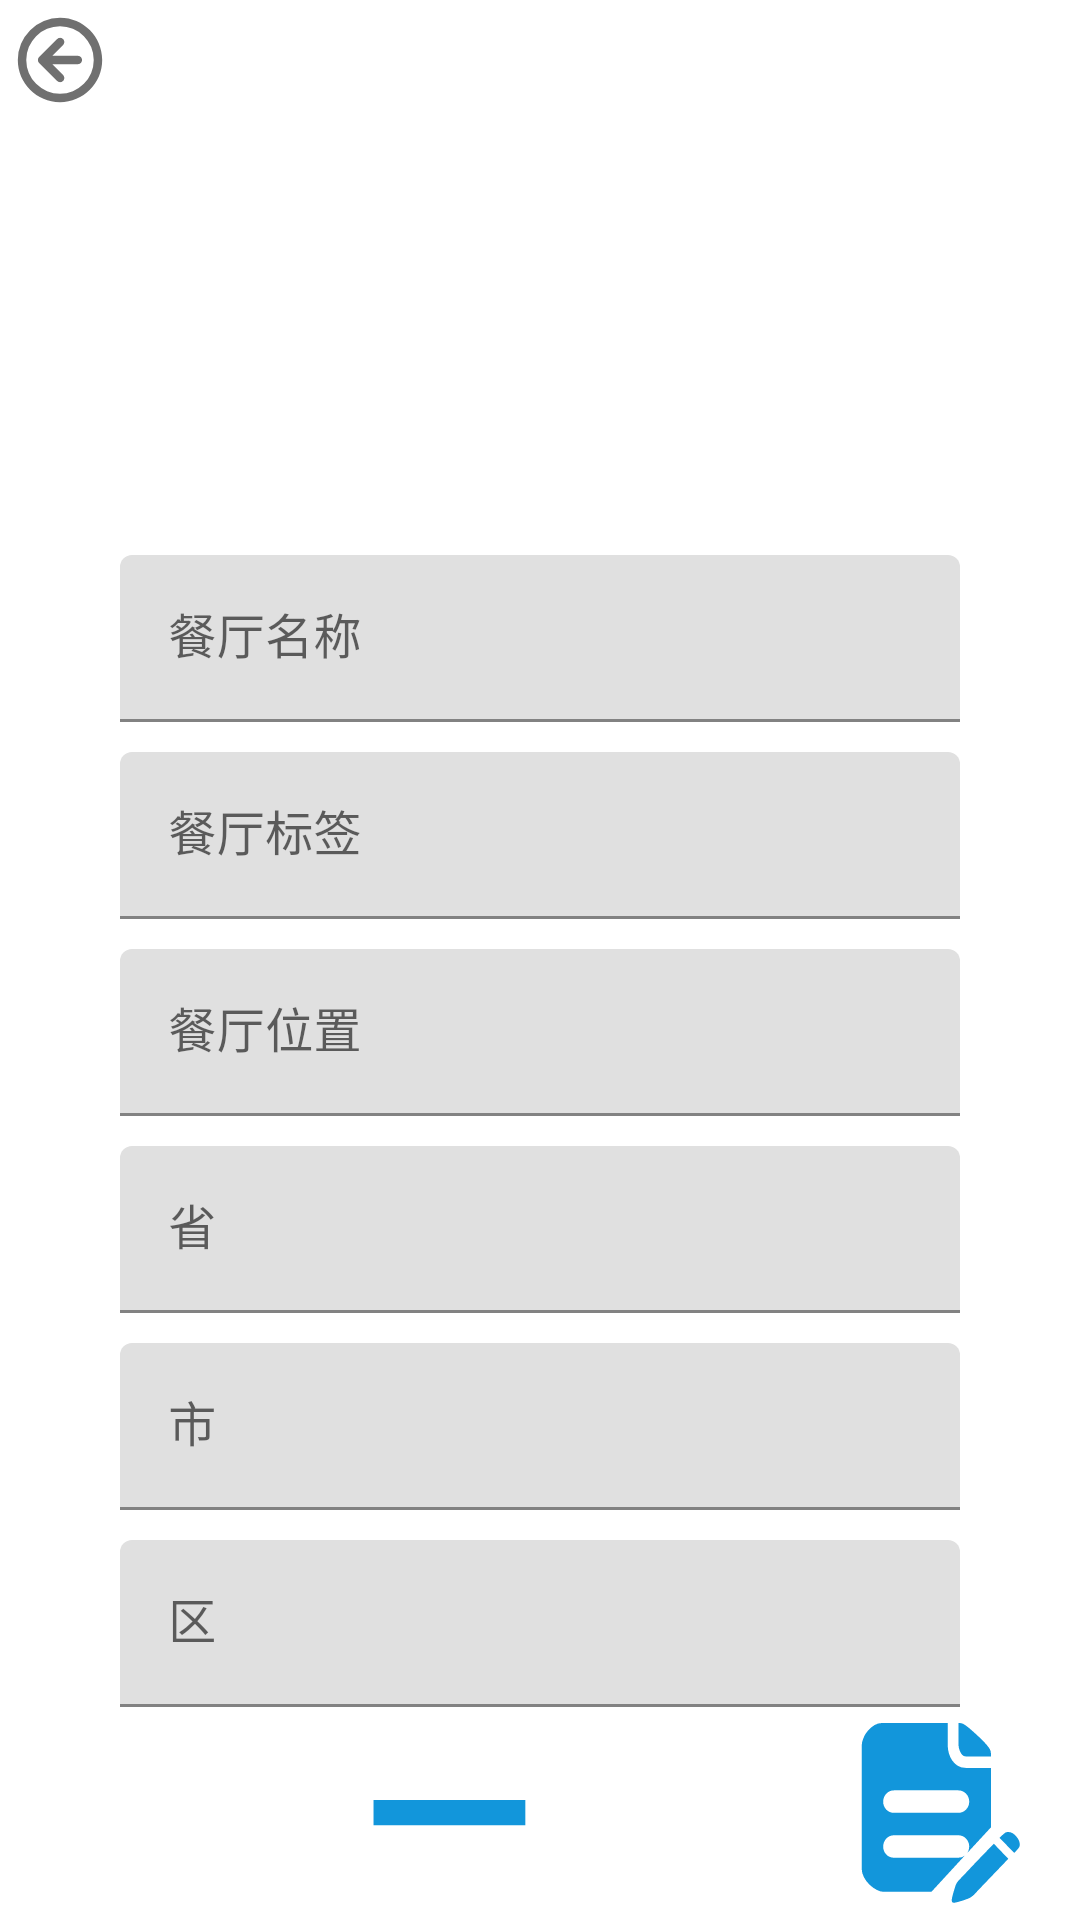

Where to tap for icons on this 1080×1920 app screen, as point (x, y):
back: point (60, 60)
restaurant modify: point (940, 1813)
